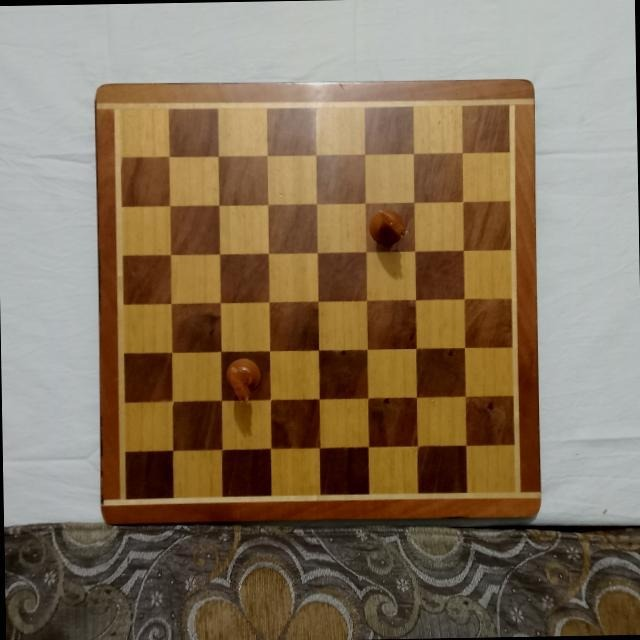white-knight: (224, 354, 260, 406), (368, 207, 407, 246)
